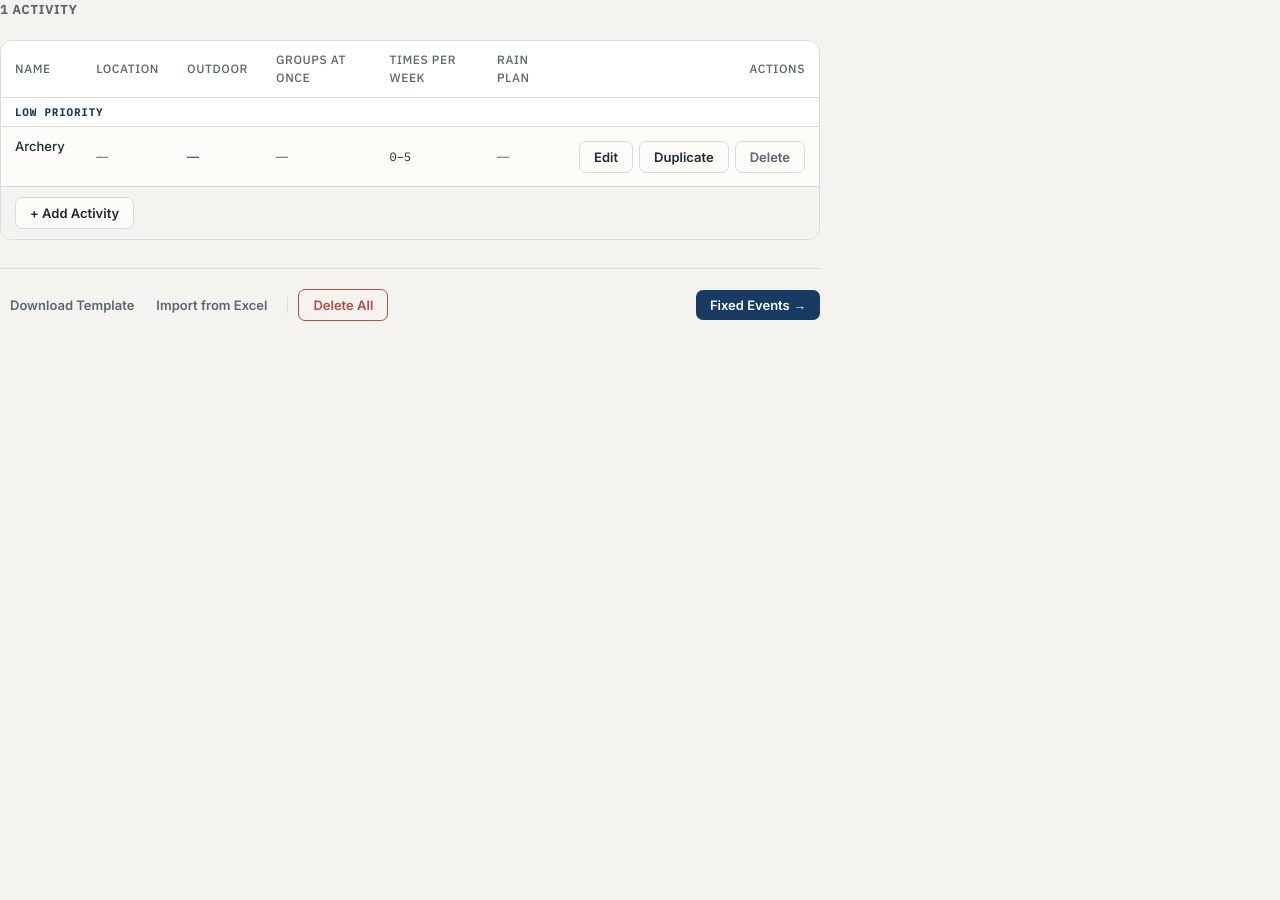
it: ActivitiesScreen — delete all › cancels without deleting
Expected: the button "Archery" is shown, x1=15 y1=138 x2=65 y2=154
Click the button "Delete All".
click(343, 305)  # box x1=298 y1=289 x2=388 y2=321
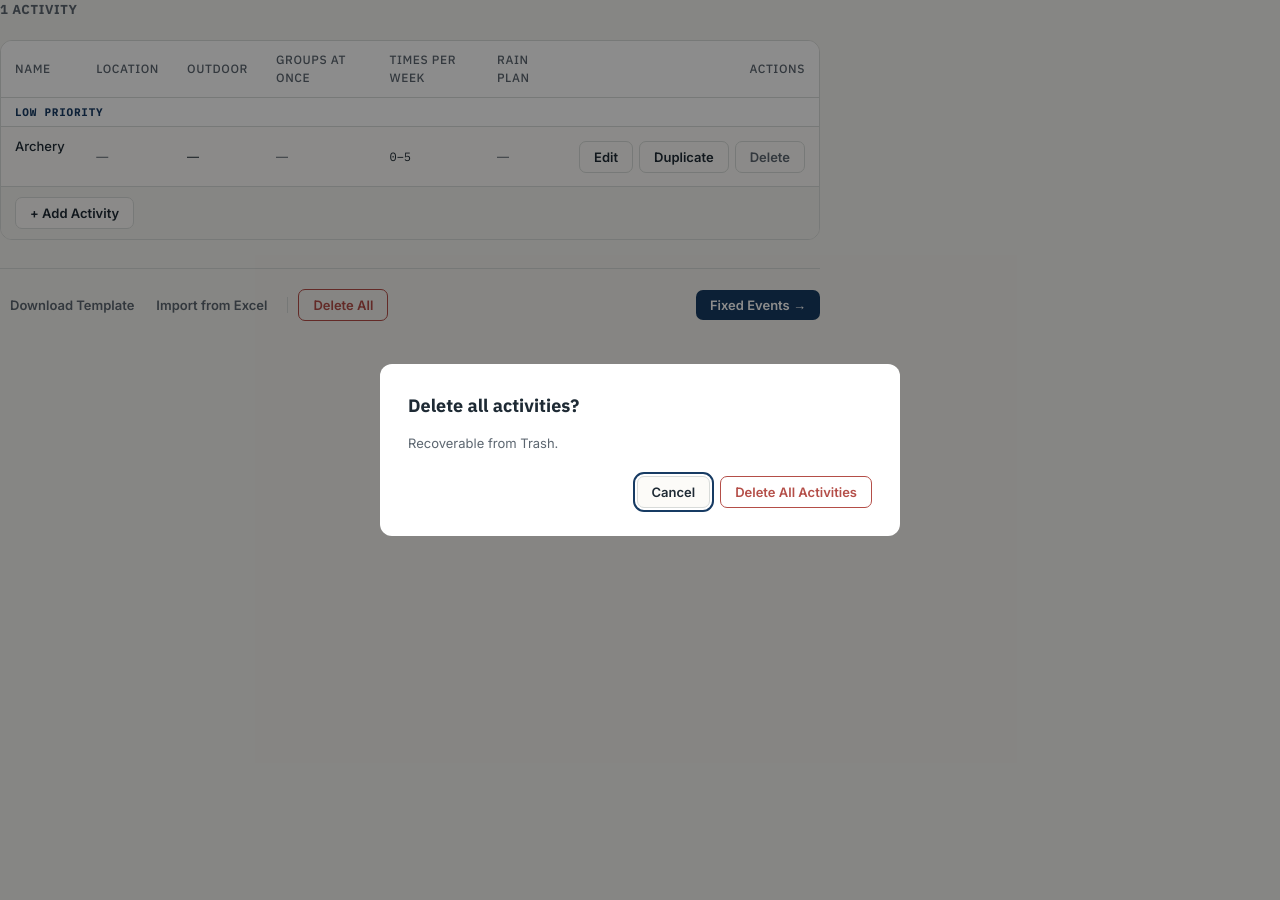
Expected: the text "Delete all activities?" is shown, x1=408 y1=394 x2=579 y2=417
Click the button "Cancel".
click(673, 492)  # box x1=636 y1=476 x2=710 y2=508
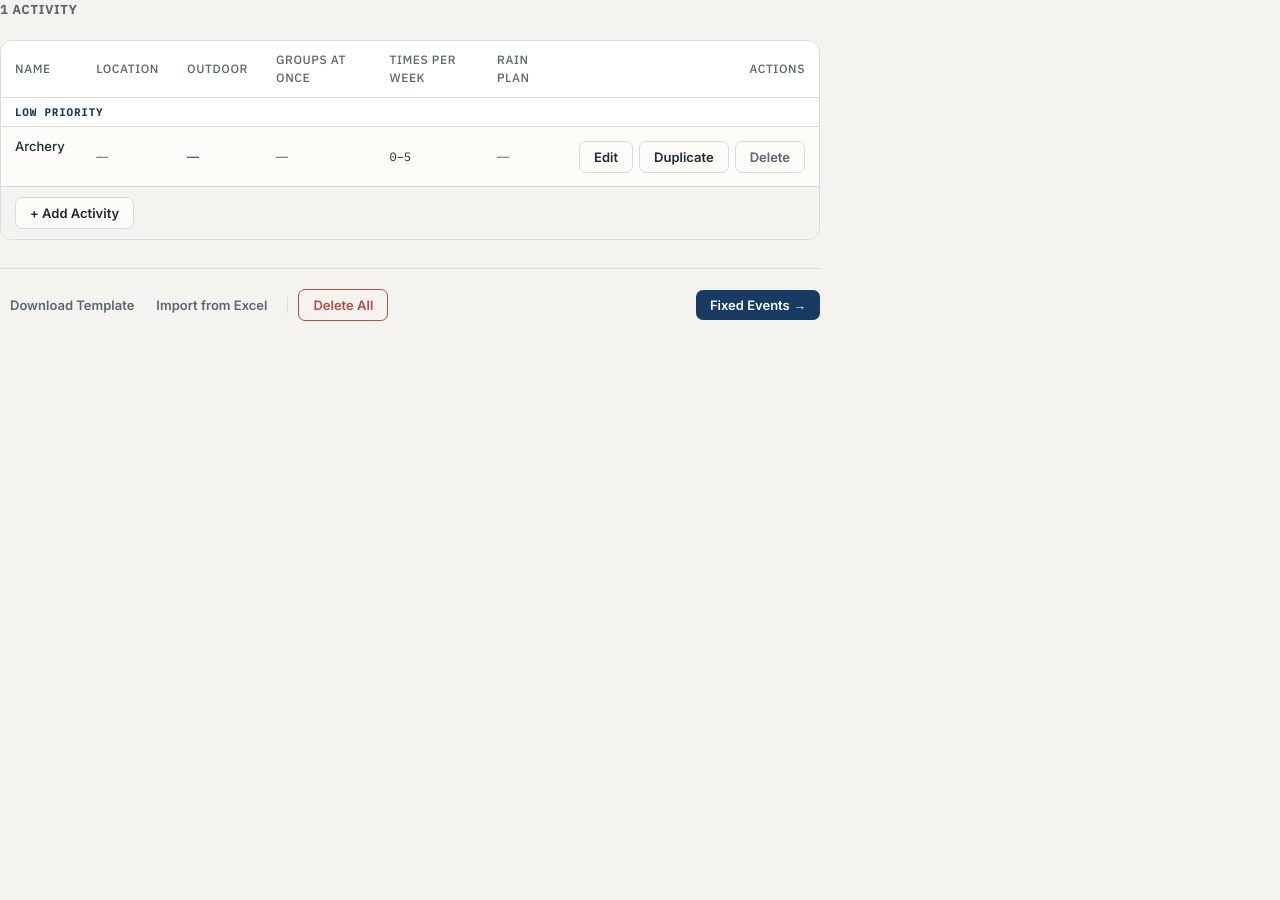
Expected: the text "Delete all activities?" is gone
